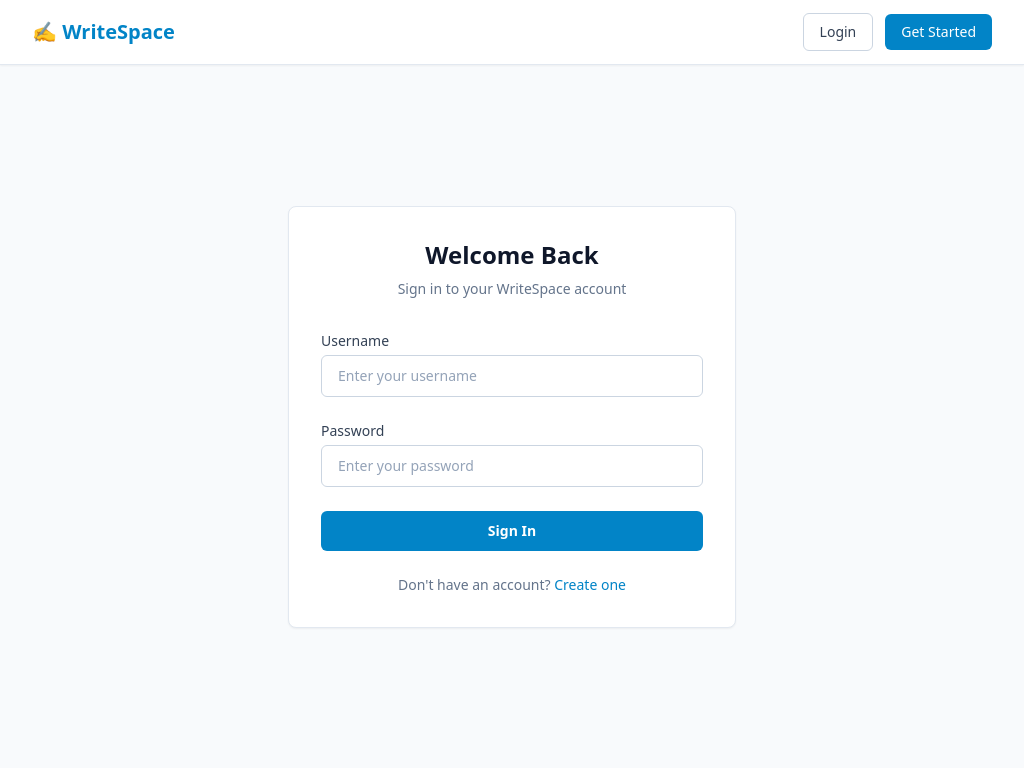
LoginPage › form validation › shows error when both fields are empty
The width and height of the screenshot is (1024, 768).
Click the button "Sign In" at (512, 530), box [321, 510, 703, 550]
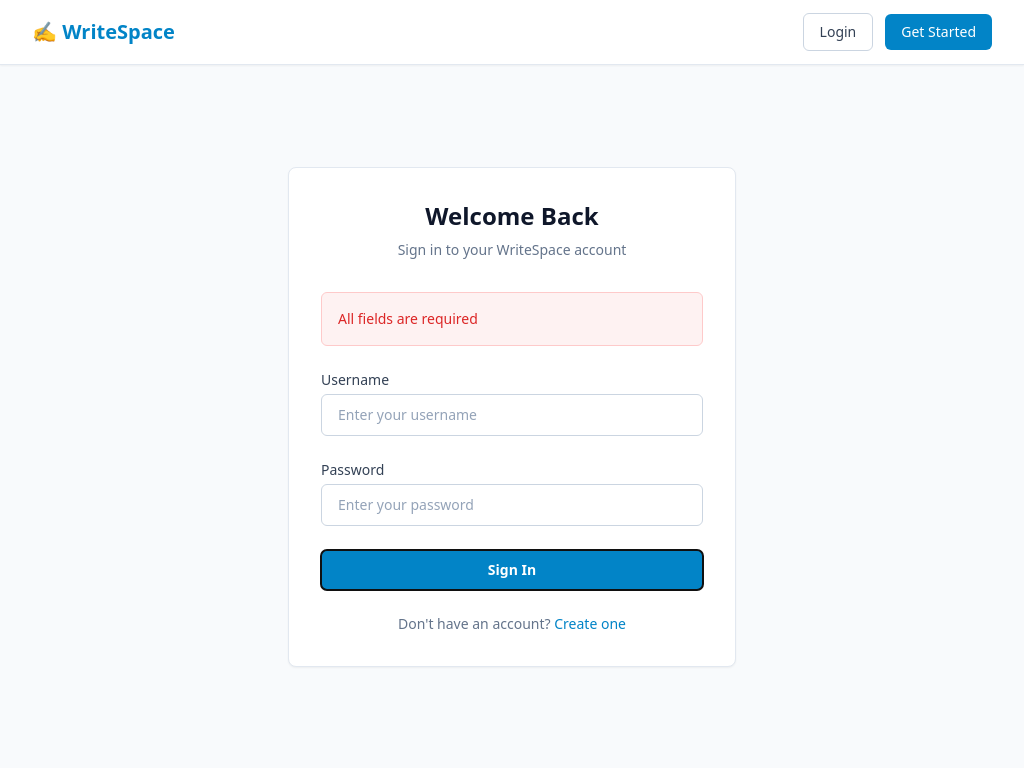
Now the text "All fields are required" is shown, box [338, 308, 478, 328]
